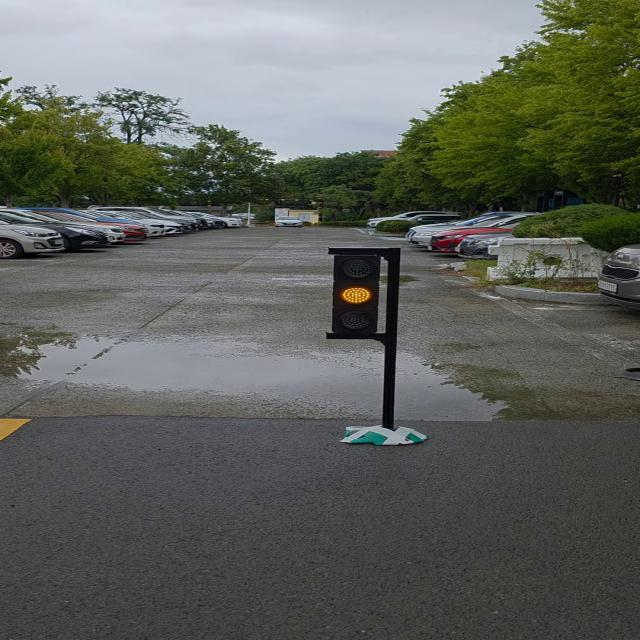yellow: (335, 248, 382, 336)
